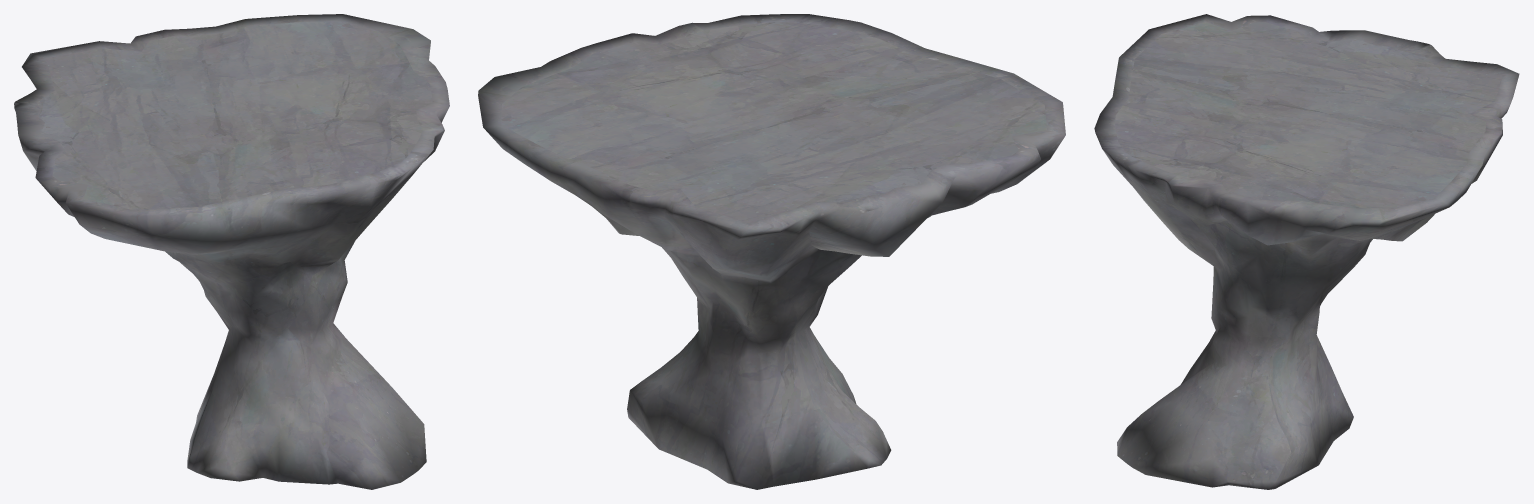
File: Stages_MD_SDLStone01.fbx
The picture shows the model from 3 angles, left to right: view 1: azimuth 30°, elevation 25°; view 2: azimuth 150°, elevation 25°; view 3: azimuth 270°, elevation 25°; orthographic projection. The views are drawn at different scales.
Parts seen in each view (by area): view 1: Stages_MD_SDLStone01_Lod0; view 2: Stages_MD_SDLStone01_Lod0; view 3: Stages_MD_SDLStone01_Lod0.
Boxes of the visible parts, bbox=[...] form: Stages_MD_SDLStone01_Lod0: bbox=[14, 14, 449, 489]; Stages_MD_SDLStone01_Lod0: bbox=[478, 14, 1065, 489]; Stages_MD_SDLStone01_Lod0: bbox=[1094, 14, 1519, 489].
Bounding box in the file's own units: 38.17 × 26.29 × 33.03.
